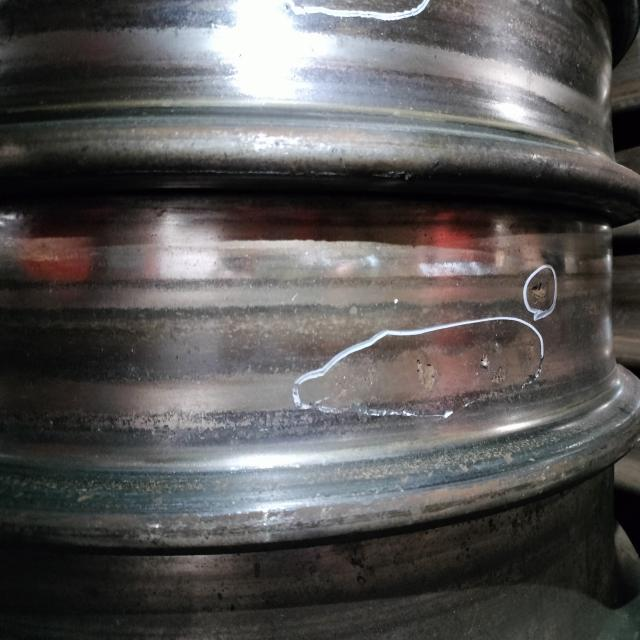Blue hole: (414, 354, 444, 400), (323, 375, 353, 403), (532, 280, 553, 309)
Peeling: (474, 339, 509, 390)
